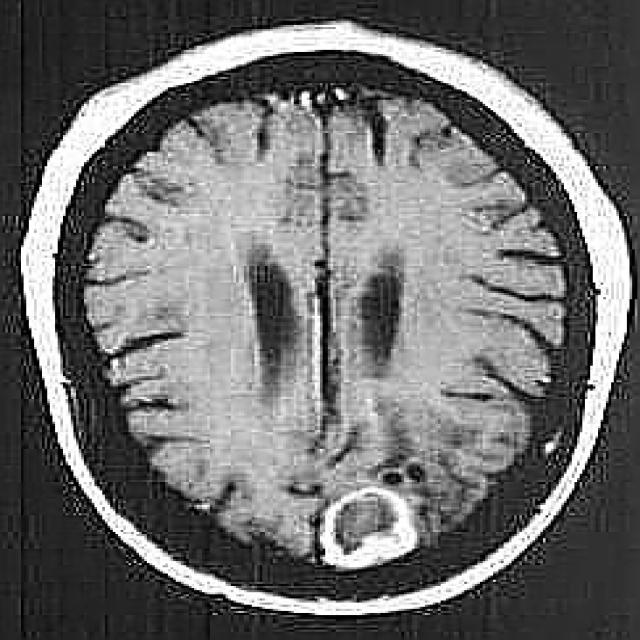Tumor-Cell: (323, 480, 421, 560)
